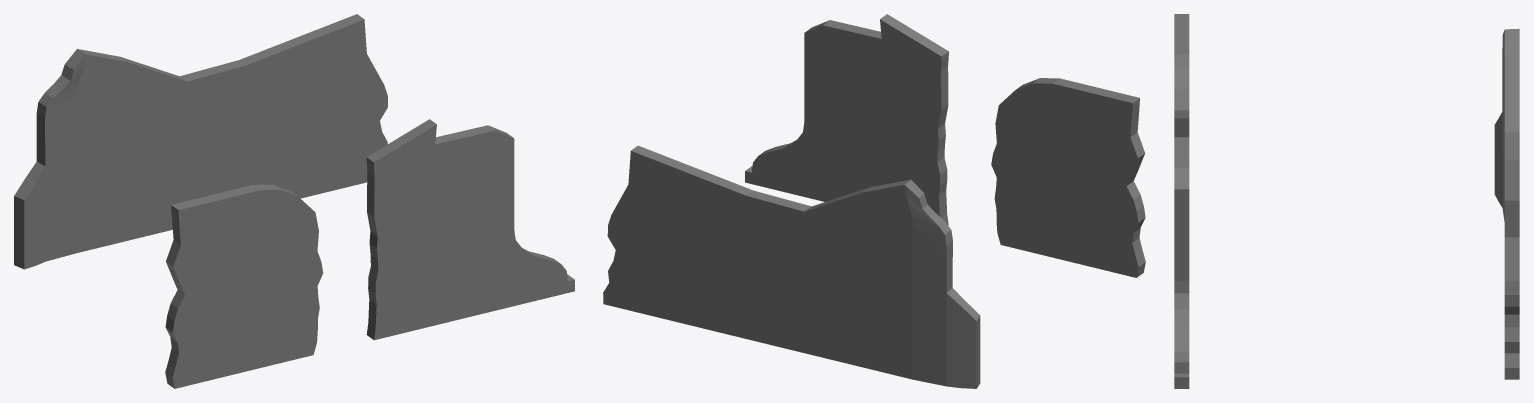
Rendered from Ruins Centre.fbx.
3 renders of one model, left to right at view 1: azimuth 30°, elevation 25°; view 2: azimuth 150°, elevation 25°; view 3: azimuth 270°, elevation 25°, orthographic. The views are drawn at different scales.
Visible parts, largest first — view 1: Ruins Centre; view 2: Ruins Centre; view 3: Ruins Centre.
Boxes of the visible parts, x1=… form: Ruins Centre: x1=14, y1=14, x2=574, y2=388; Ruins Centre: x1=603, y1=14, x2=1145, y2=388; Ruins Centre: x1=1174, y1=14, x2=1519, y2=388.
Size of the model in its own units: 94.64 by 45.07 by 69.64.
